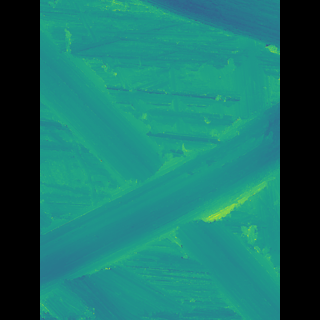Loch: (69, 20, 250, 320)
